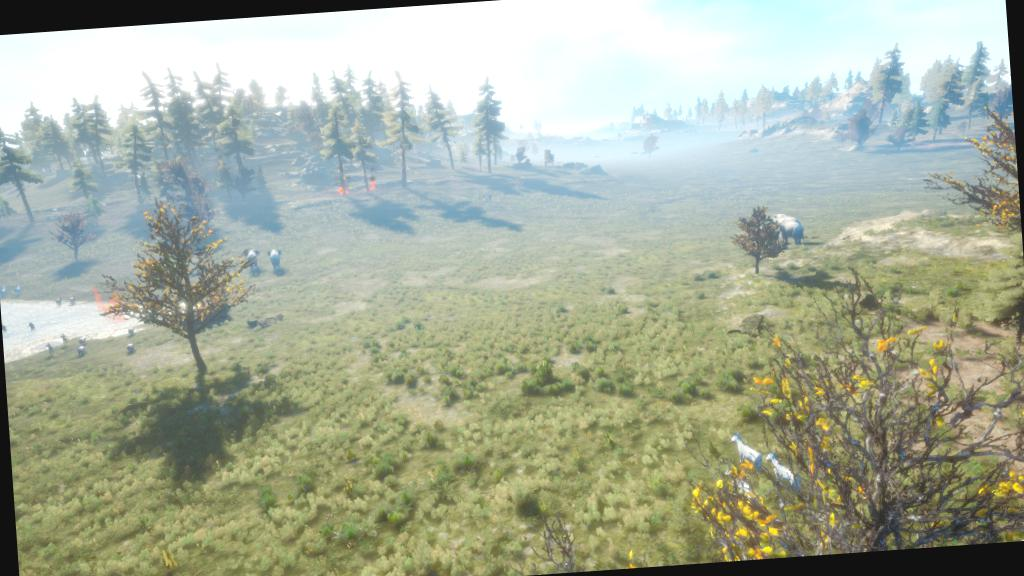Fire: (92, 289, 126, 323), (336, 183, 350, 195), (362, 181, 376, 192)
elephant: (768, 212, 806, 246), (242, 250, 262, 276), (267, 249, 283, 272), (76, 344, 87, 356), (77, 336, 87, 346), (126, 326, 136, 335), (126, 343, 136, 352)
human: (44, 342, 54, 355), (59, 333, 68, 345), (27, 321, 36, 332), (1, 324, 7, 332)
zebra: (766, 450, 805, 494), (730, 432, 766, 475), (722, 466, 756, 500), (0, 285, 9, 300), (14, 284, 22, 295)
